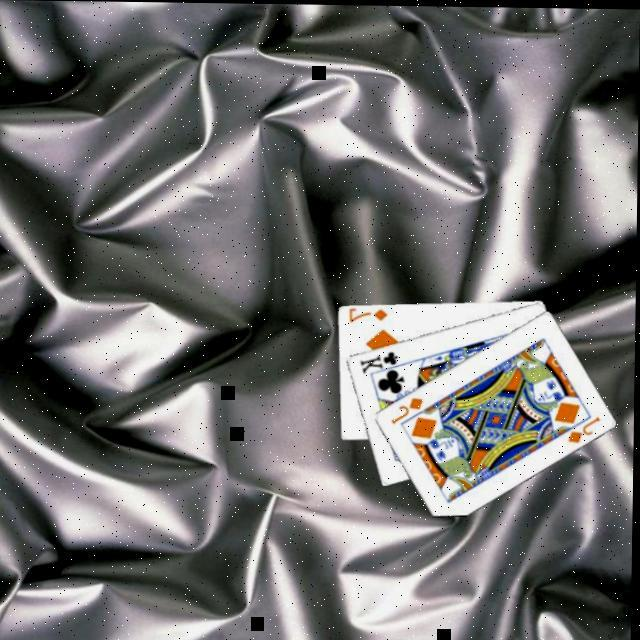7D: (346, 306, 390, 326)
JD: (388, 396, 426, 428), (565, 414, 603, 446)
KC: (357, 348, 407, 380)
